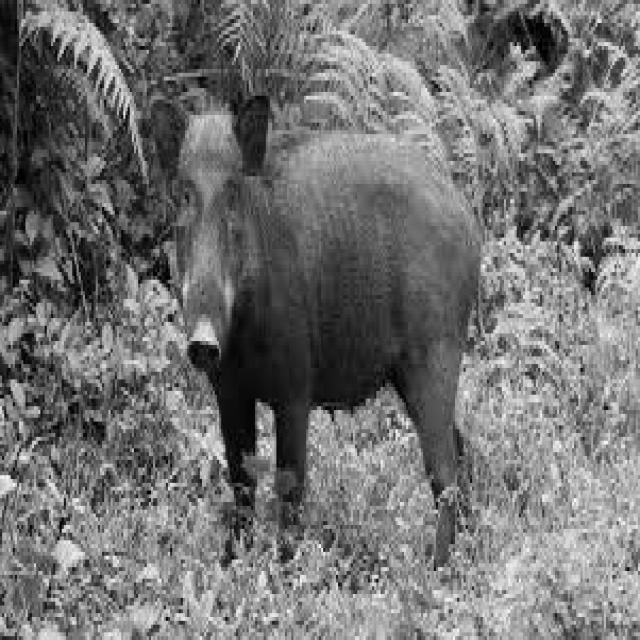boar: (153, 96, 481, 565)
